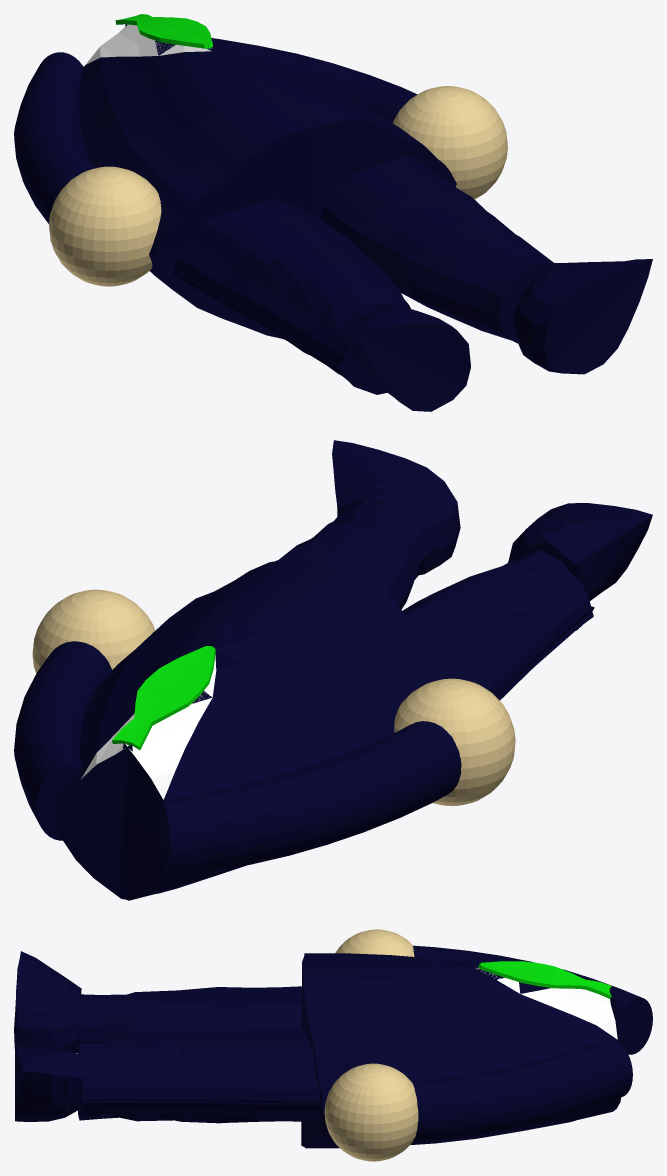
Rendered from NewCharacter_suits_for_tsukkomi.fbx.
The picture shows the model from 3 angles, top to bottom: view 1: azimuth 30°, elevation 25°; view 2: azimuth 150°, elevation 25°; view 3: azimuth 270°, elevation 25°; orthographic projection. The views are drawn at different scales.
Visible parts, largest first — view 1: doutai_5, doutai_6, doutai_7, doutai_9, doutai_2, doutai_8, doutai_1, doutai_4, doutai_3, Plane.002; view 2: doutai_5, doutai_1, doutai_6, doutai_3, doutai_2, doutai_7, doutai_9, doutai_8, doutai_4, Plane.002; view 3: doutai_5, doutai_7, doutai_3, doutai_6, doutai_4, doutai_8, doutai_9, doutai_1, Plane.002, doutai_2.
Boxes of the visible parts, x1,y1,x2,y2 form: doutai_5: (79, 24, 456, 337); doutai_6: (172, 199, 410, 394); doutai_7: (320, 156, 553, 343); doutai_9: (513, 259, 652, 374); doutai_2: (49, 166, 161, 286); doutai_8: (353, 304, 470, 411); doutai_1: (14, 52, 96, 223); doutai_4: (392, 86, 507, 199); doutai_3: (211, 38, 417, 123); Plane.002: (115, 14, 213, 48); doutai_5: (54, 559, 452, 900); doutai_1: (159, 721, 461, 879); doutai_6: (402, 550, 594, 700); doutai_3: (14, 641, 111, 840); doutai_2: (394, 678, 515, 806); doutai_7: (275, 497, 428, 609); doutai_9: (332, 440, 460, 575); doutai_8: (508, 503, 652, 600); doutai_4: (32, 589, 155, 673); Plane.002: (112, 646, 215, 750); doutai_5: (301, 953, 620, 1148); doutai_7: (77, 1028, 320, 1123); doutai_3: (411, 1039, 632, 1143); doutai_6: (79, 986, 301, 1044); doutai_4: (324, 1063, 418, 1161); doutai_8: (14, 951, 81, 1053); doutai_9: (15, 1046, 82, 1121); doutai_1: (413, 945, 652, 1054); Plane.002: (478, 961, 611, 998); doutai_2: (335, 929, 414, 956).
Bounding box in the file's own units: 212 × 101 × 326.
